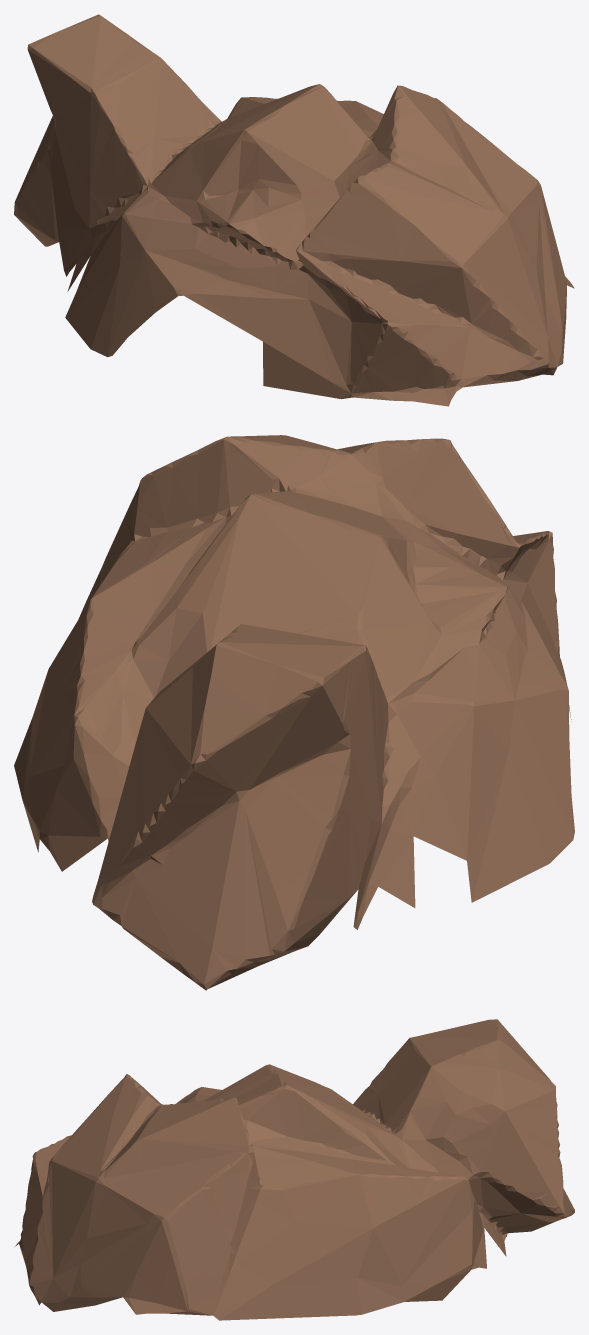
File: Hair_short_LOD2.glb
The picture shows the model from 3 angles, top to bottom: view 1: azimuth 30°, elevation 25°; view 2: azimuth 150°, elevation 25°; view 3: azimuth 270°, elevation 25°; orthographic projection. The views are drawn at different scales.
Visible parts, largest first — view 1: Hair_short_LOD2; view 2: Hair_short_LOD2; view 3: Hair_short_LOD2.
Boxes of the visible parts, x1=… form: Hair_short_LOD2: x1=14, y1=14, x2=574, y2=406; Hair_short_LOD2: x1=14, y1=435, x2=574, y2=990; Hair_short_LOD2: x1=15, y1=1019, x2=574, y2=1320.
Size of the model in its own units: 0.1908 by 0.1023 by 0.2651.
